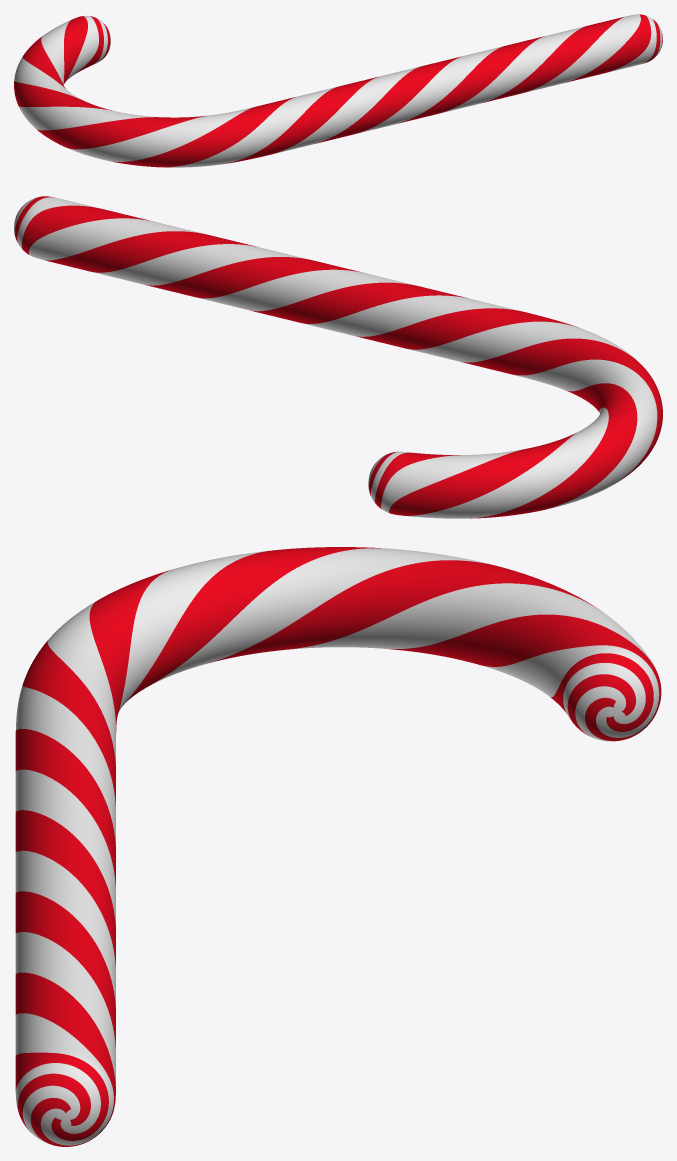
The model's file is Candy cane.fbx.
The picture shows the model from 3 angles, top to bottom: view 1: azimuth 30°, elevation 25°; view 2: azimuth 150°, elevation 25°; view 3: azimuth 270°, elevation 25°; orthographic projection. The views are drawn at different scales.
Visible parts, largest first — view 1: Circle; view 2: Circle; view 3: Circle.
Boxes of the visible parts, x1,y1,x2,y2 form: Circle: (14,14,662,167); Circle: (14,196,662,518); Circle: (15,547,661,1146).
Bounding box in the file's own units: 466 × 36.51 × 235.
